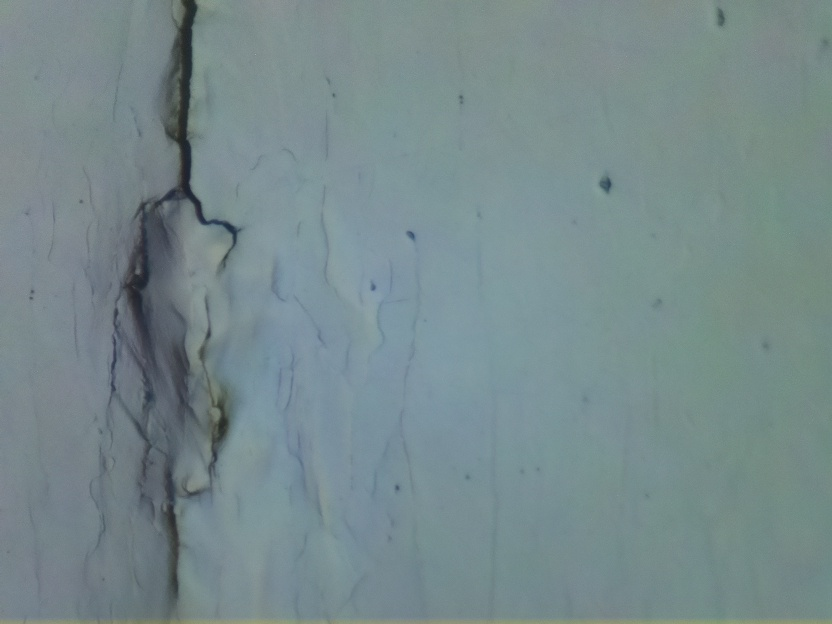crack: (166, 0, 234, 267)
